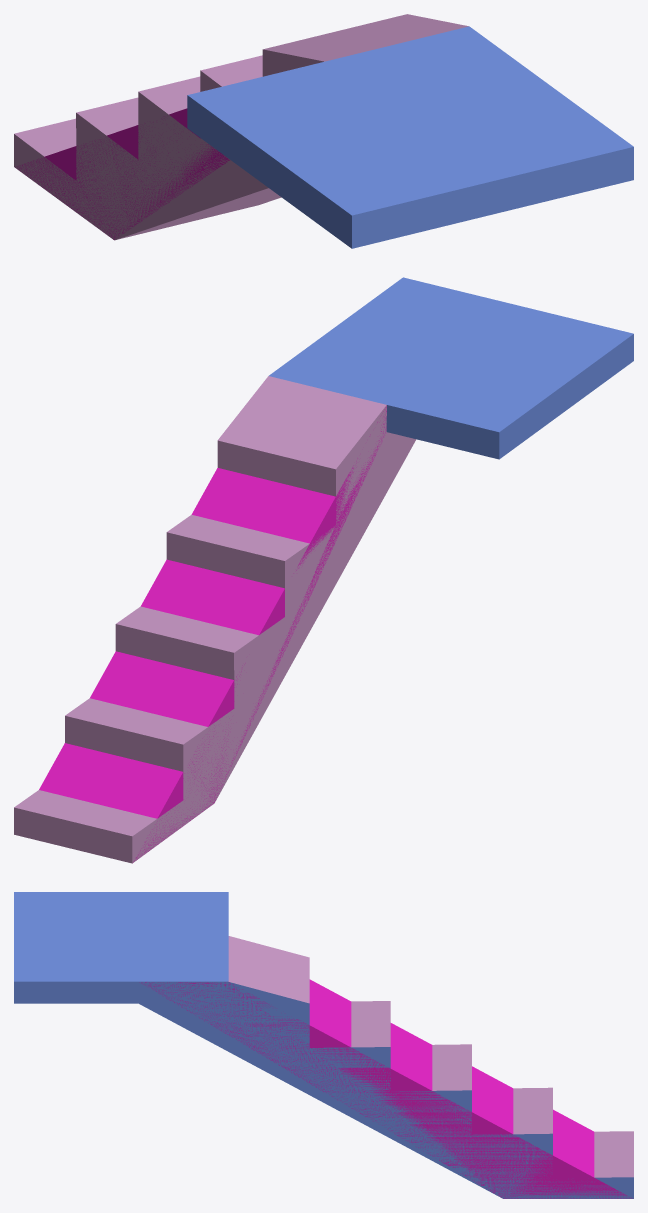
The model's file is teststairs.fbx.
3 renders of one model, top to bottom at view 1: azimuth 30°, elevation 25°; view 2: azimuth 150°, elevation 25°; view 3: azimuth 270°, elevation 25°, orthographic. The views are drawn at different scales.
Visible parts, largest first — view 1: test_stairs_MESH, test_stairs_COL; view 2: test_stairs_MESH, test_stairs_COL; view 3: test_stairs_MESH, test_stairs_COL.
Part boxes in pixels (left/top/right/bottom): test_stairs_MESH: left=14, top=14, right=633, bottom=248; test_stairs_COL: left=15, top=108, right=229, bottom=239; test_stairs_MESH: left=14, top=277, right=633, bottom=863; test_stairs_COL: left=39, top=405, right=386, bottom=862; test_stairs_MESH: left=14, top=892, right=633, bottom=1198; test_stairs_COL: left=139, top=979, right=632, bottom=1198.
Bounding box in the file's own units: 390 × 1139 × 440.
